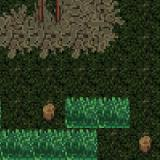Interaction: (31, 0, 68, 26)
Obstacle: (32, 97, 65, 127), (130, 129, 160, 160)
Slow: (0, 129, 96, 160), (65, 97, 130, 129)
